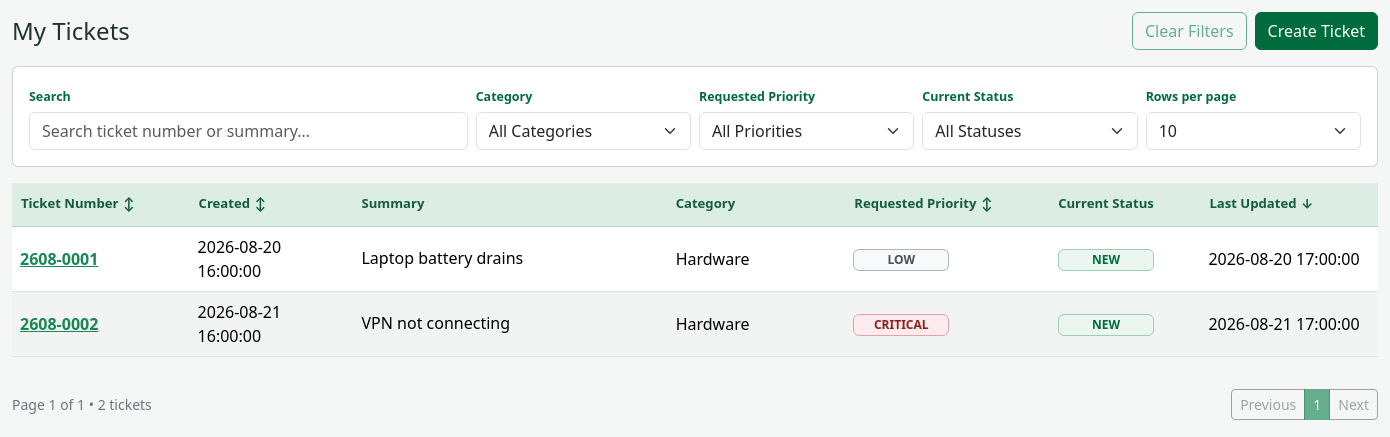
Test: MyTickets › Search and Filters (UI-08) › keeps top Clear Filters beside Create Ticket and resets filters/sort without changing page size (UI-25)
Expected: the button "Clear Filters" is disabled, [1132,12,1246,50]
Select "20" in the dropdown labelled "Rows per page" at (1253, 130), box [1146,112,1361,150]
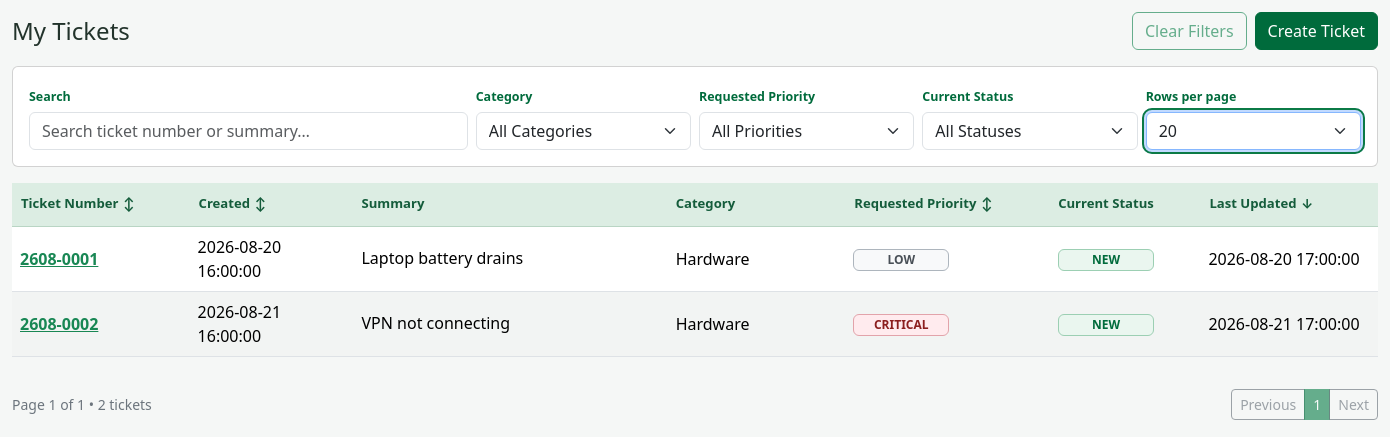
Expected: the button "Clear Filters" is disabled, [1132,12,1246,50]
Type "test" into the field with placeholder "Search ticket number or summary…" at (248, 130), box [29,112,468,150]
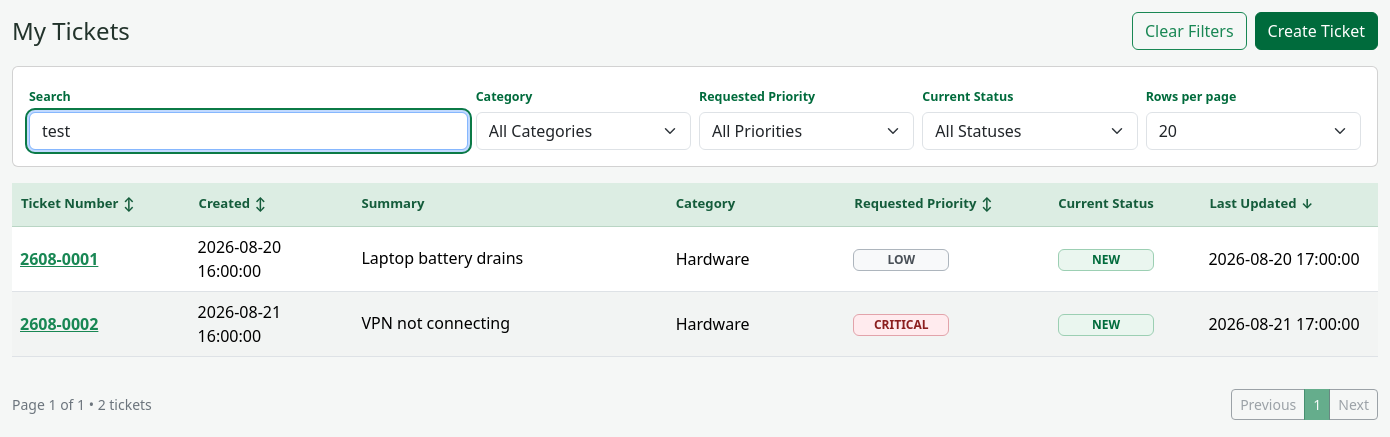
Select "Hardware" in the dropdown labelled "Category" at (583, 130), box [476,112,691,150]
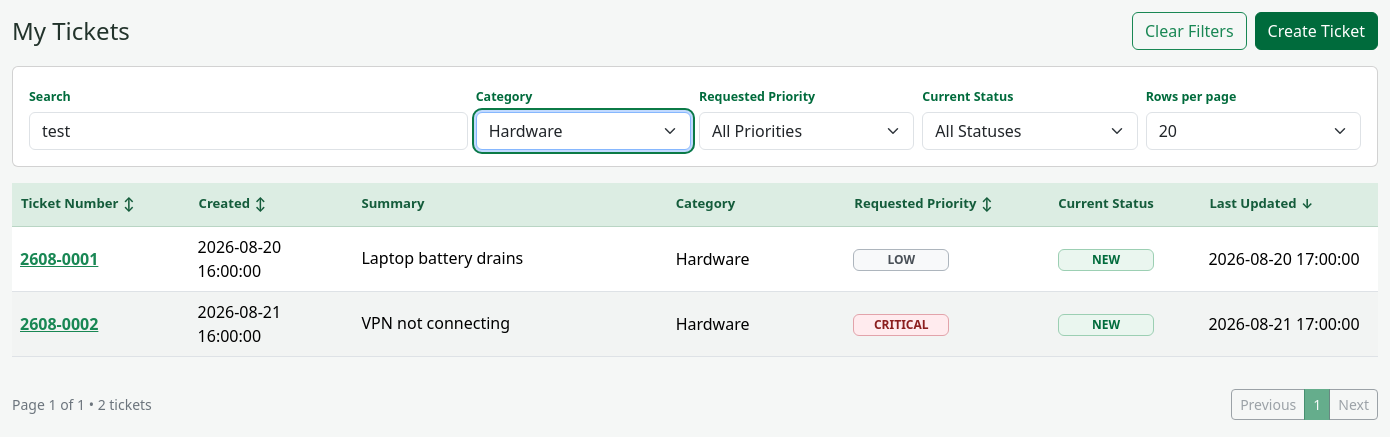
Select "NEW" in the dropdown labelled "Current Status" at (1030, 130), box [922,112,1138,150]
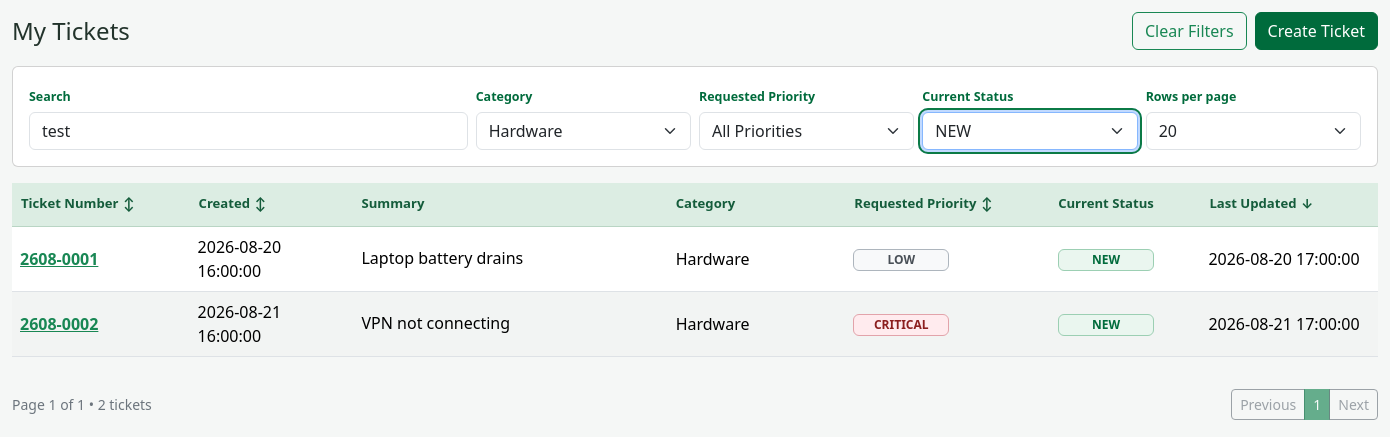
Click the button with aria-label "Sort by Ticket Number" at (78, 204), box [20,195,136,213]
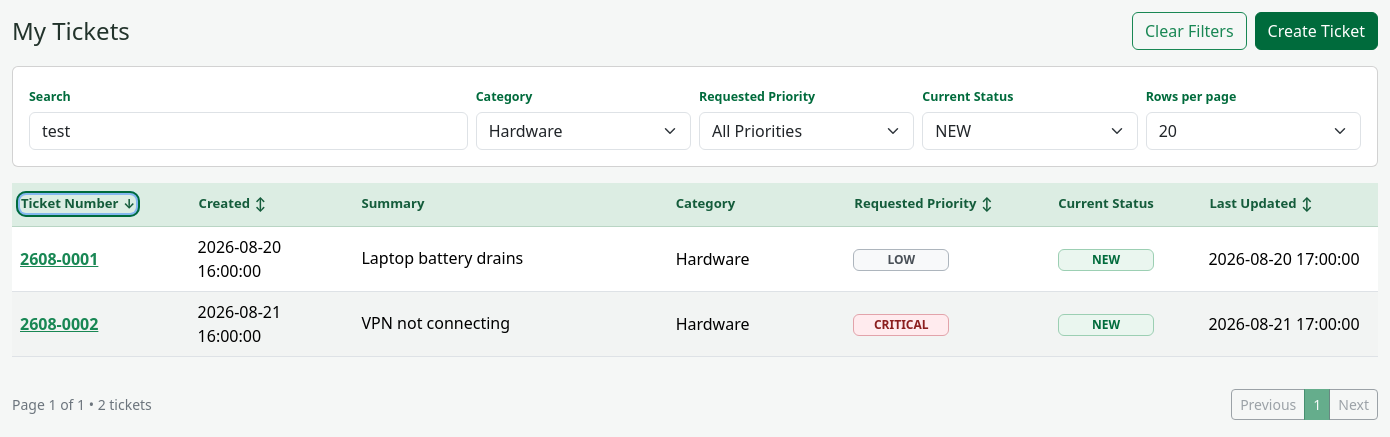
Expected: the button "Clear Filters" is enabled
Click the button "Clear Filters" at (1189, 31), box [1132,12,1246,50]
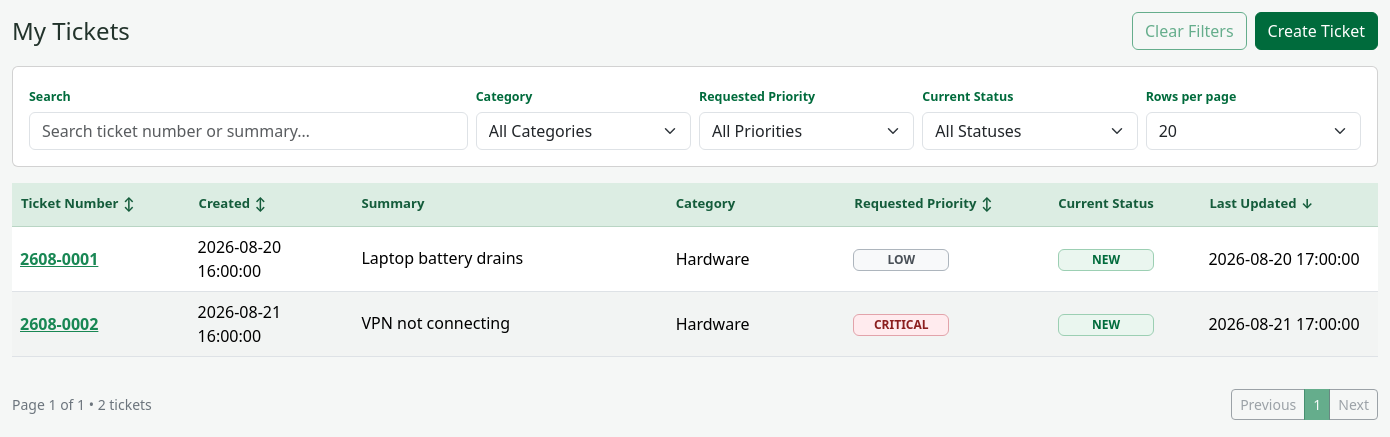
Expected: the field with placeholder "Search ticket number or summary…" is empty, [29,112,468,150]
